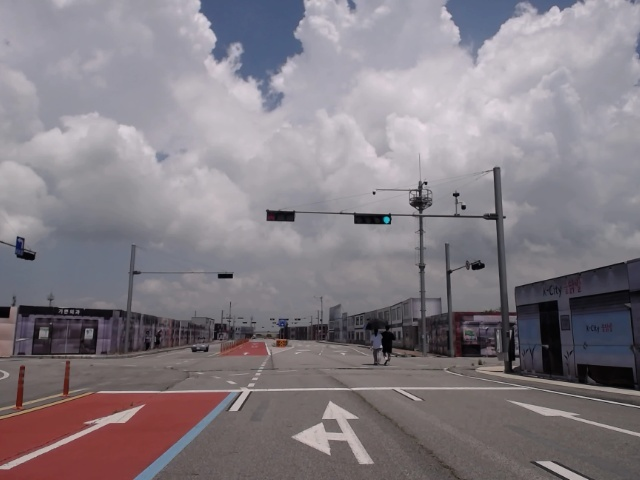straight_green_4: (354, 212, 393, 224)
